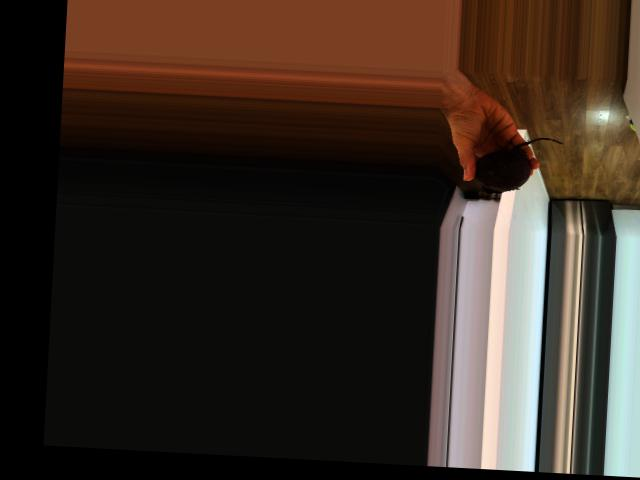beet: (474, 134, 564, 197)
